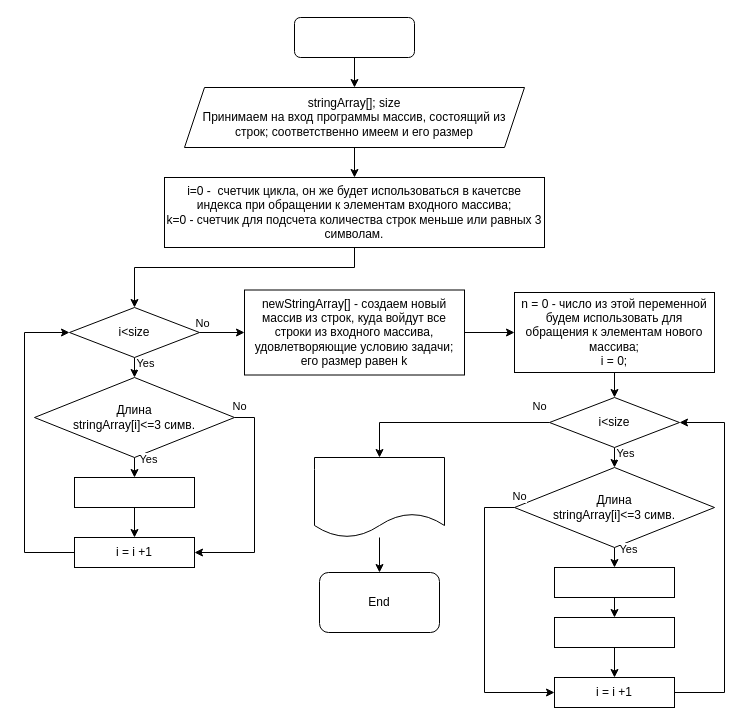
This 750x725 diagram has some shape labels left out. The shapes that lost their labels are listed below. From the top down, each one's centre as x and y in pixels, then its label:
At pixel 354 37: "Start".
At pixel 134 492: "k = k +1".
At pixel 379 497: "Print newStringArray[]".
At pixel 614 582: "newStringArray[n] = stringArray[i]".
At pixel 614 632: "n = n +1".
